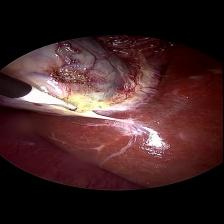Hook: (16, 82, 78, 114)
